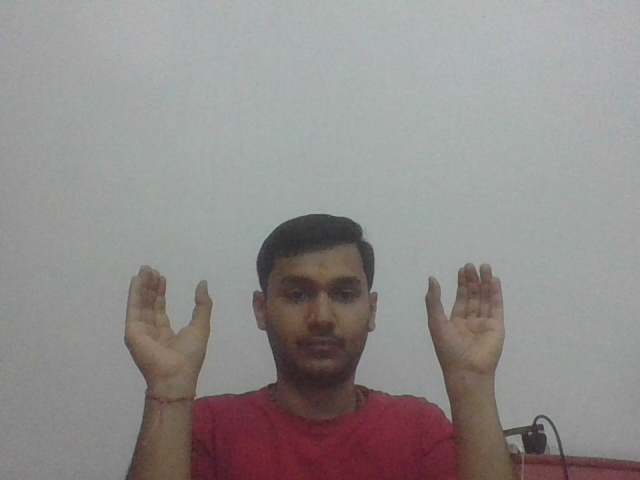U: (119, 261, 219, 389), (417, 253, 507, 376)
